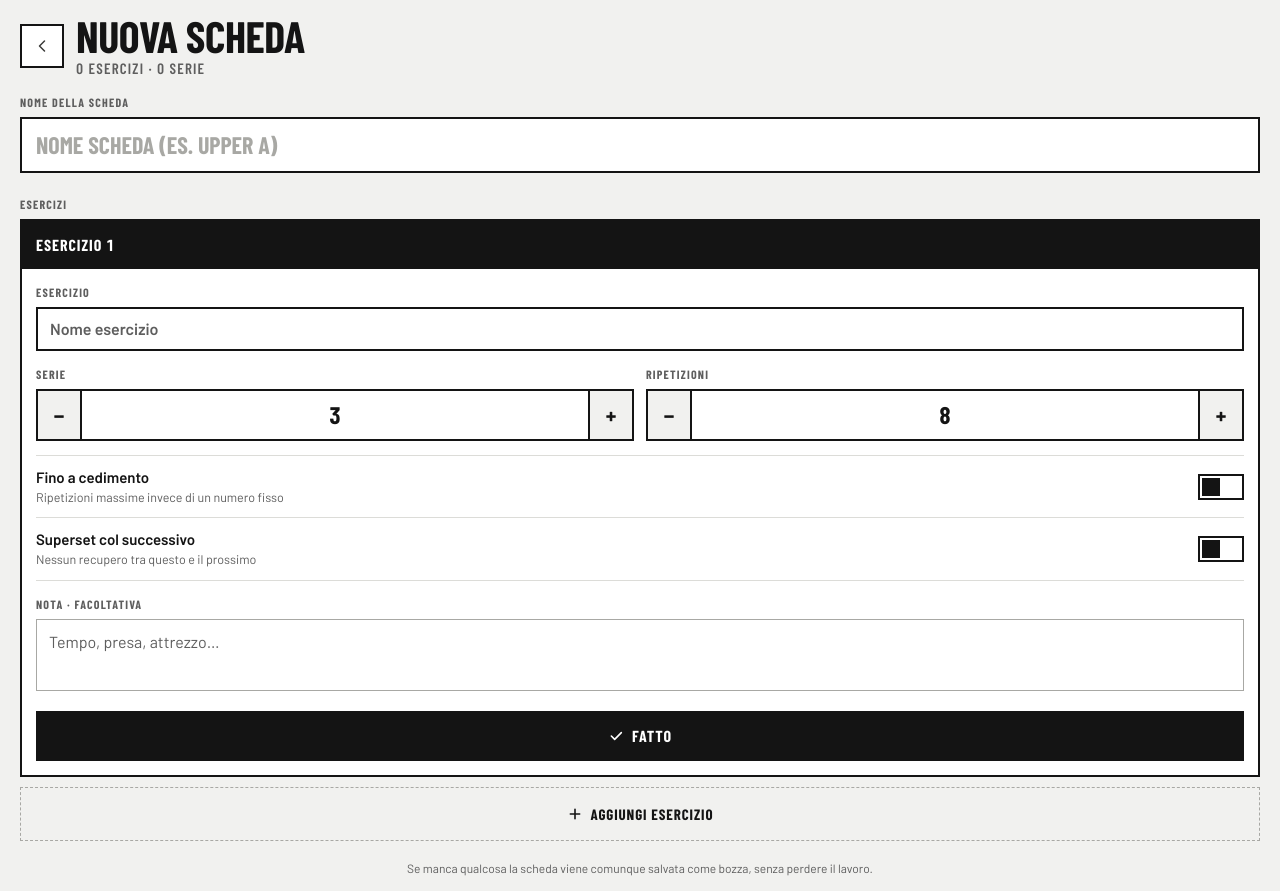
Test: il form della scheda — esercizi compressi › una scheda nuova parte con la prima riga già aperta, e ogni riga aggiunta si apre da sola
This screenshot has width=1280, height=891.
In the field labelled "Nome esercizio": (640, 329) [36, 307, 1244, 351], type "Squat"
(page scrolled)
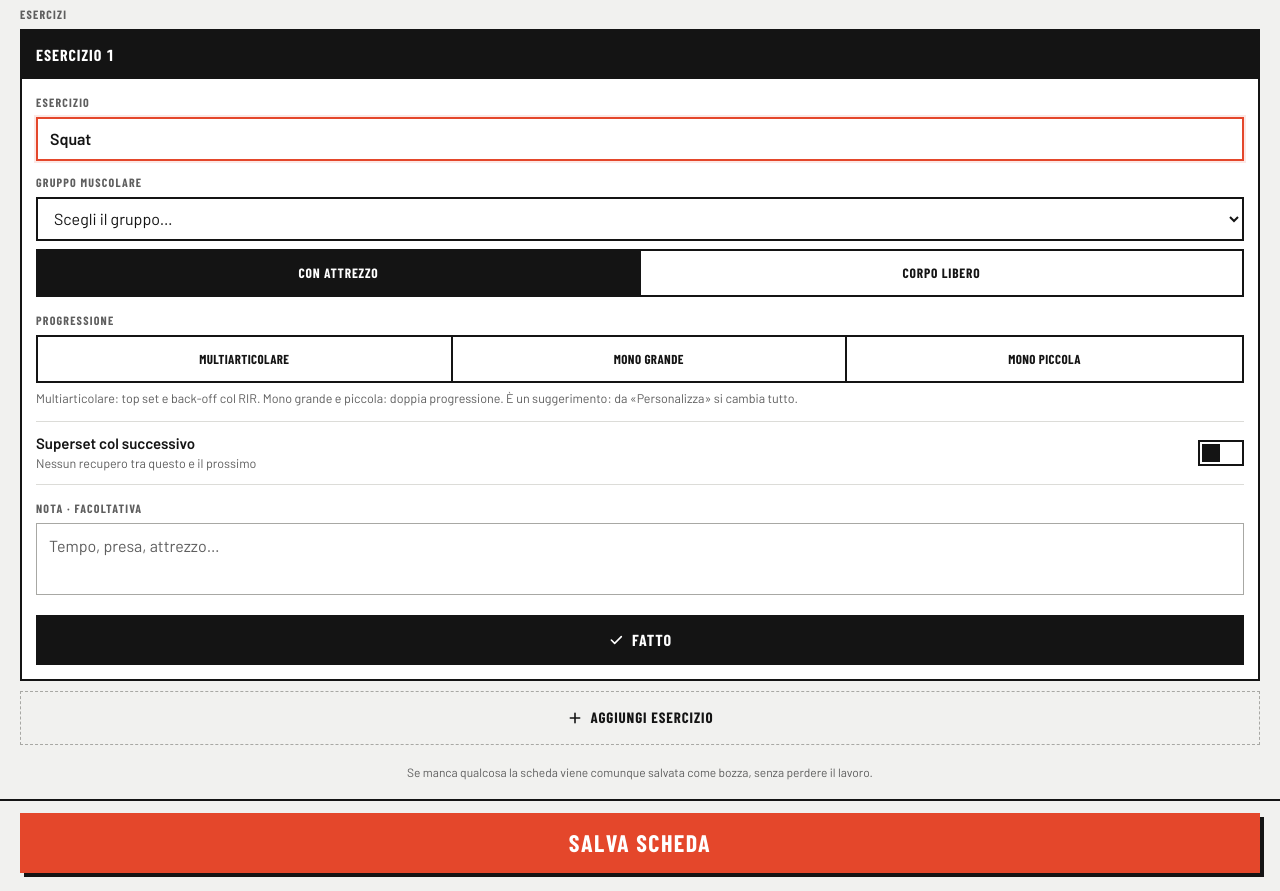
Click the button "Aggiungi esercizio": (640, 718) [20, 690, 1260, 744]
(page scrolled)
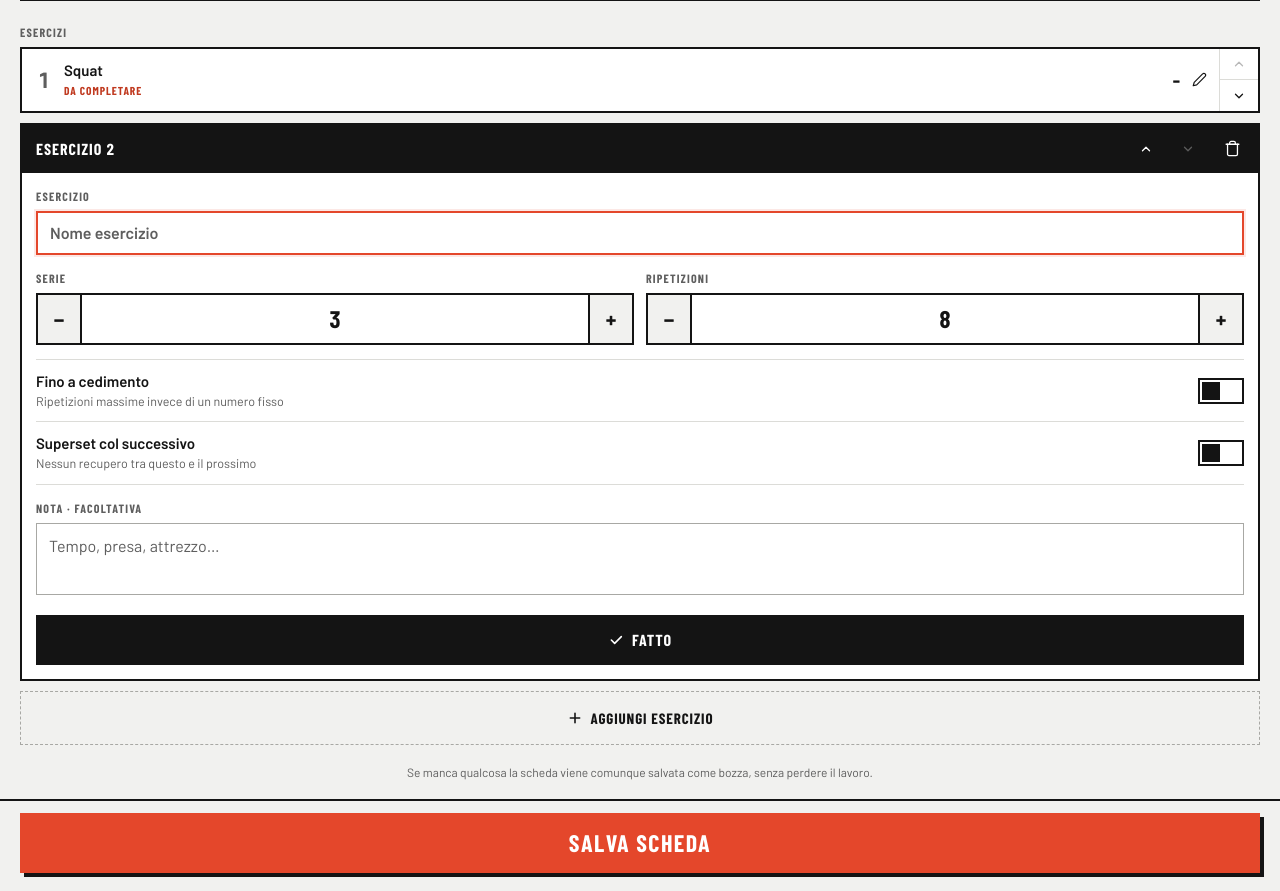
Expected: the number of fields labelled "Nome esercizio" is 1, [36, 211, 1244, 255]
Expected: the button "1 Squat da completare –" is shown, [22, 49, 1219, 111]
Expected: the field labelled "Nome esercizio" is empty, [36, 211, 1244, 255]
